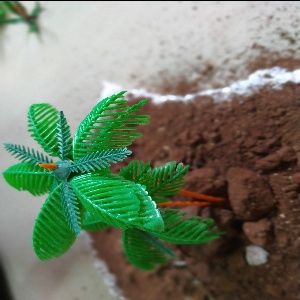plant: (1, 90, 192, 269)
